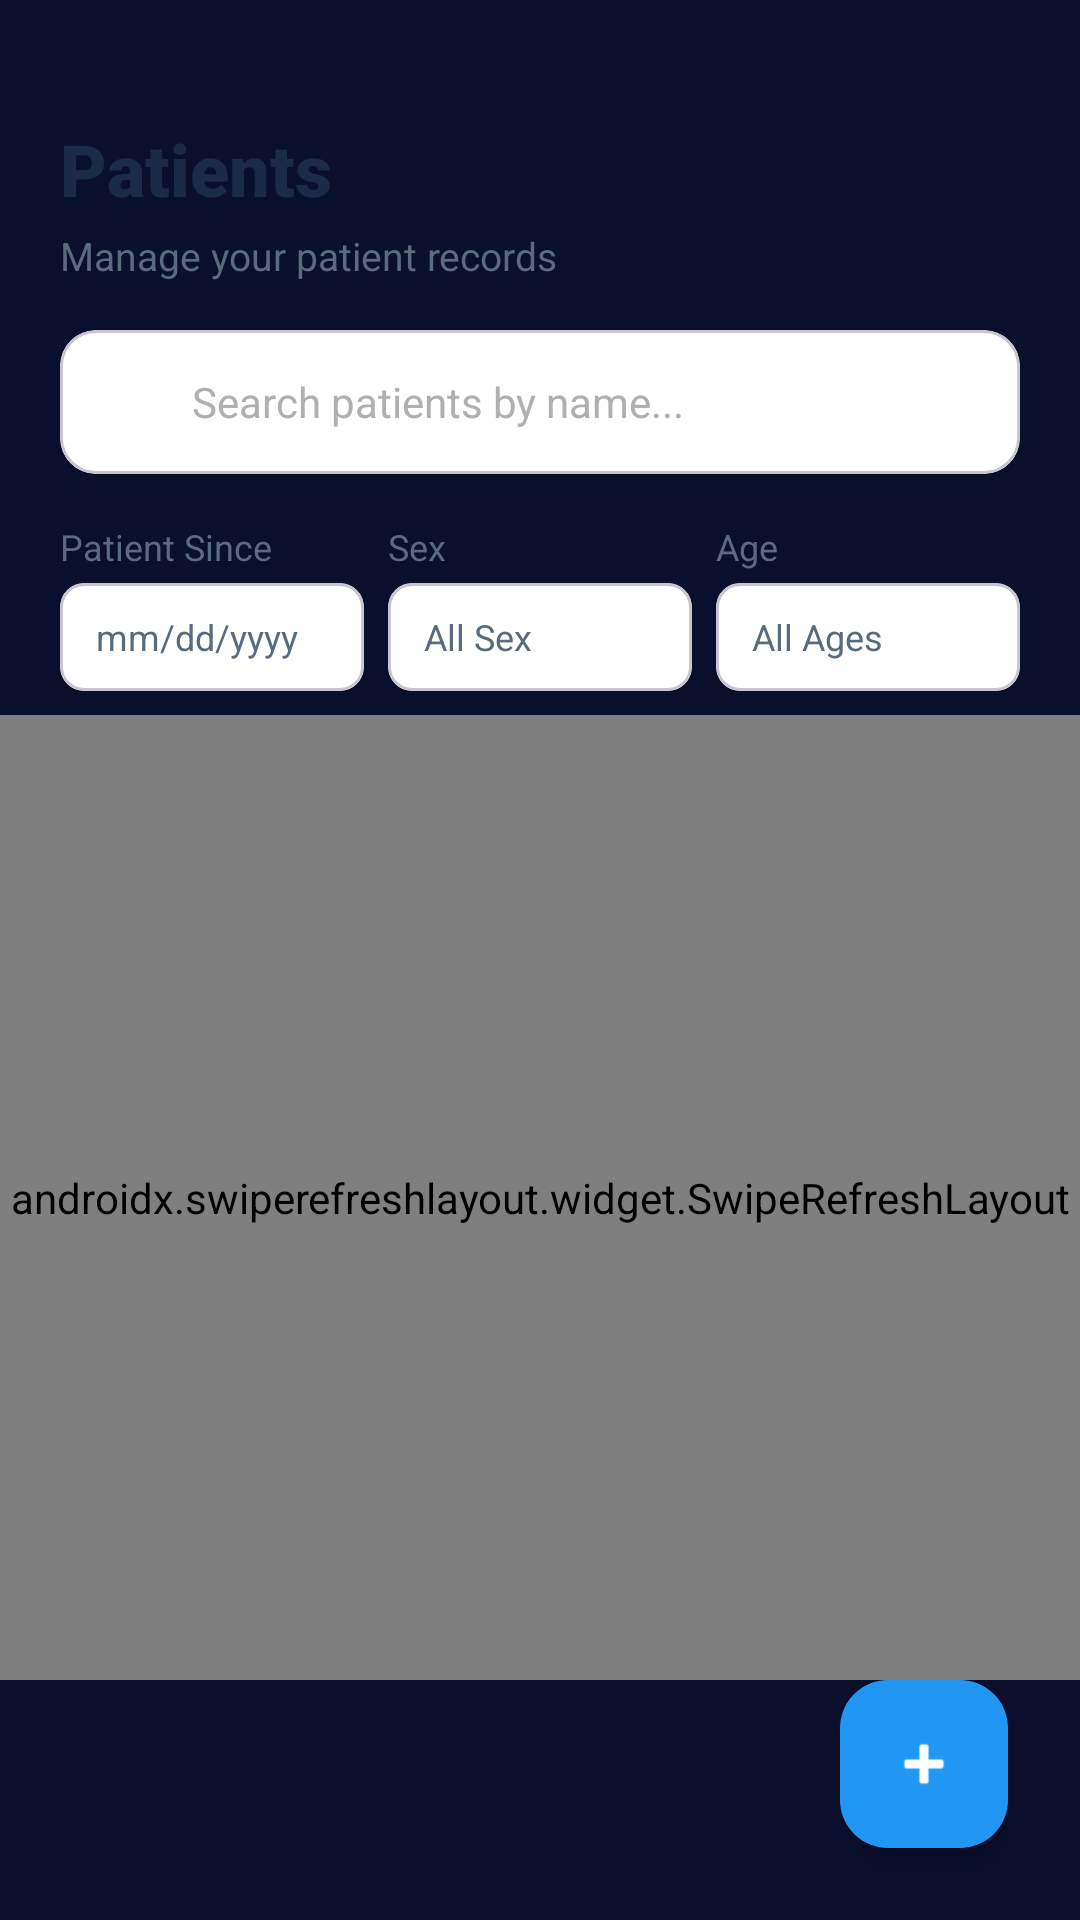

Screen size 1080w x 1920h. Icon name, then its box in pixels as (x1, y1, x2, y2):
Add patient: (840, 1680, 1008, 1848)
